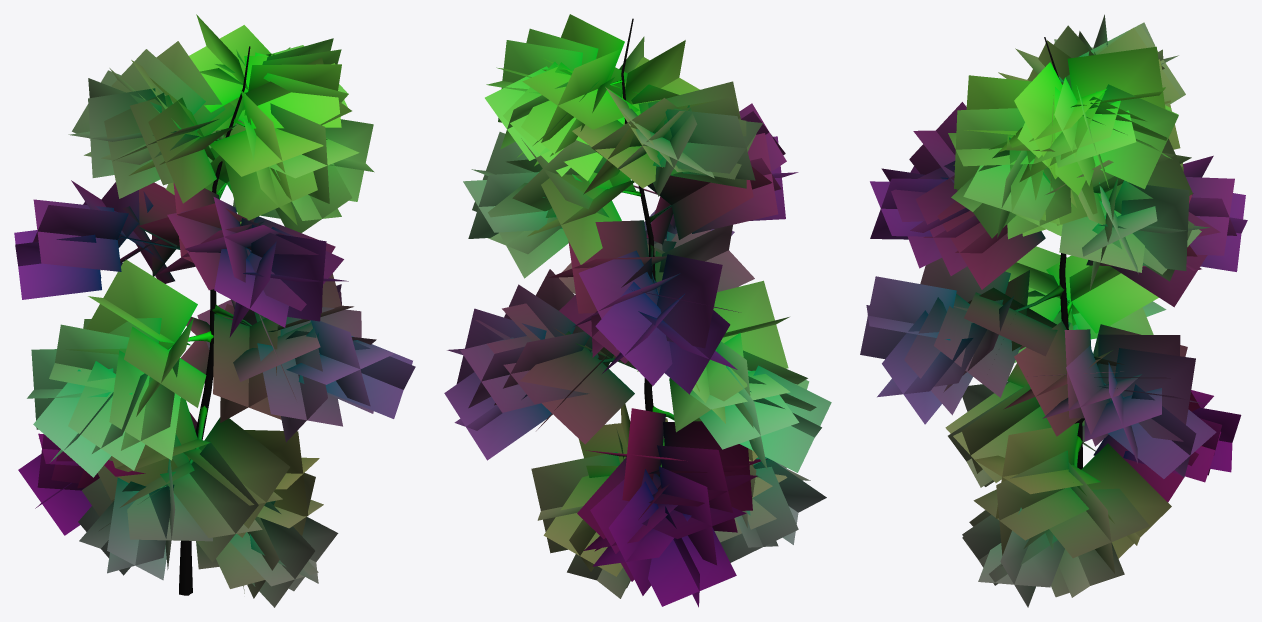
File: M_P14_Tree_4.fbx
The picture shows the model from 3 angles, left to right: view 1: azimuth 30°, elevation 25°; view 2: azimuth 150°, elevation 25°; view 3: azimuth 270°, elevation 25°; orthographic projection. The views are drawn at different scales.
Visible parts, largest first — view 1: Tree_4; view 2: Tree_4; view 3: Tree_4.
Part boxes in pixels (x1,y1,x2,y2): Tree_4: (14,14,415,607); Tree_4: (444,14,831,607); Tree_4: (860,14,1247,607).
Bounding box in the file's own units: 409 × 659 × 413.
